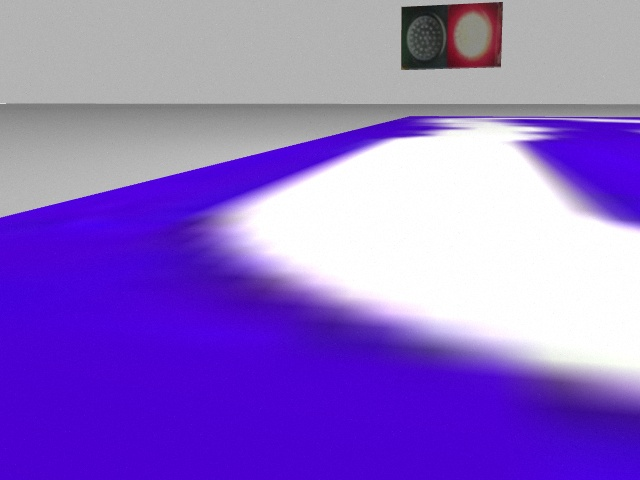red: (446, 4, 502, 64)
